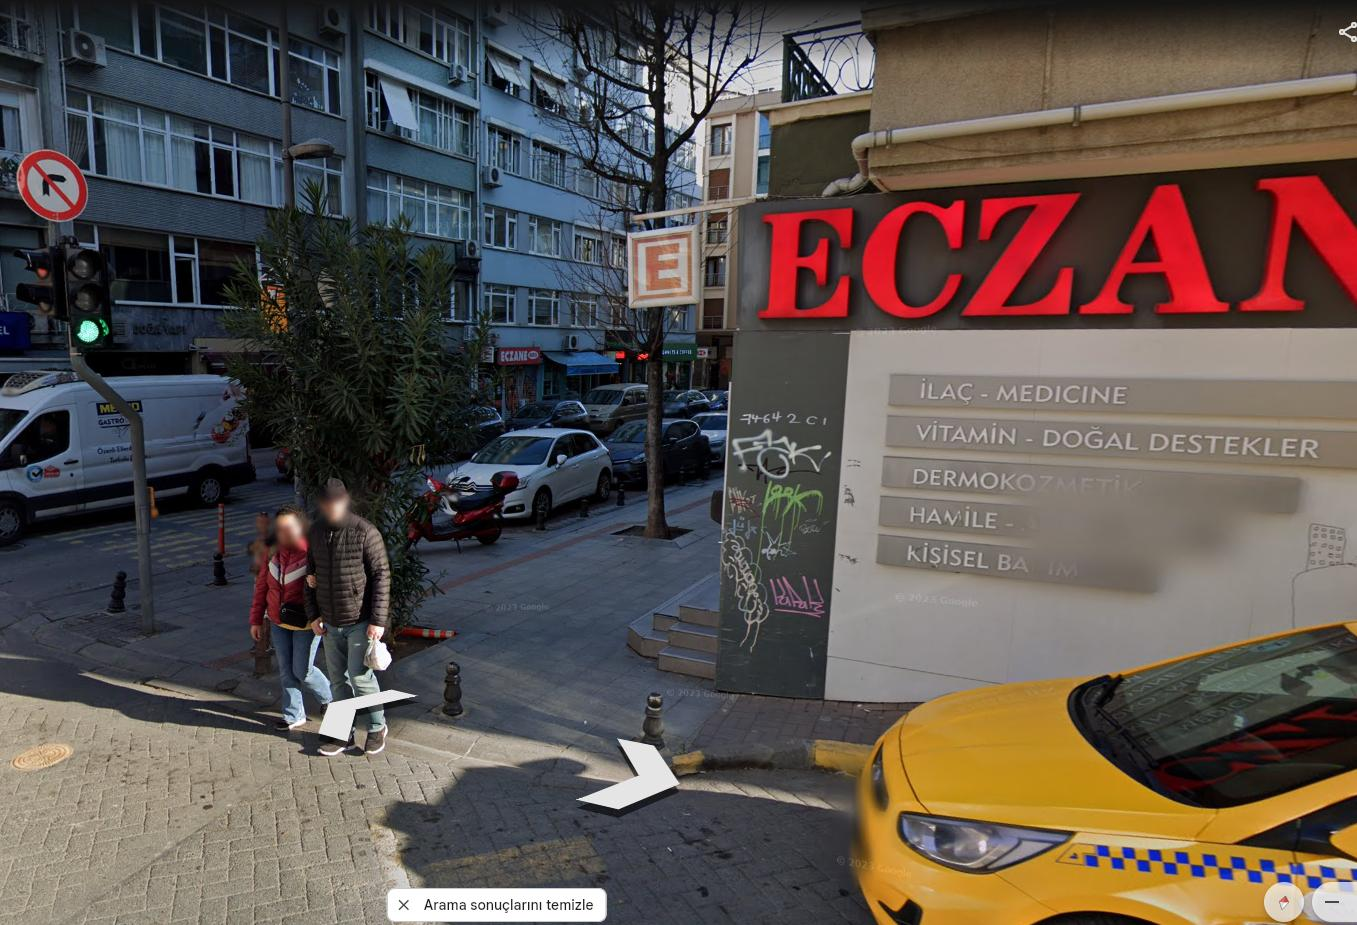greenlight: (68, 246, 111, 342)
rightturnsareforbidden: (19, 147, 91, 227)
